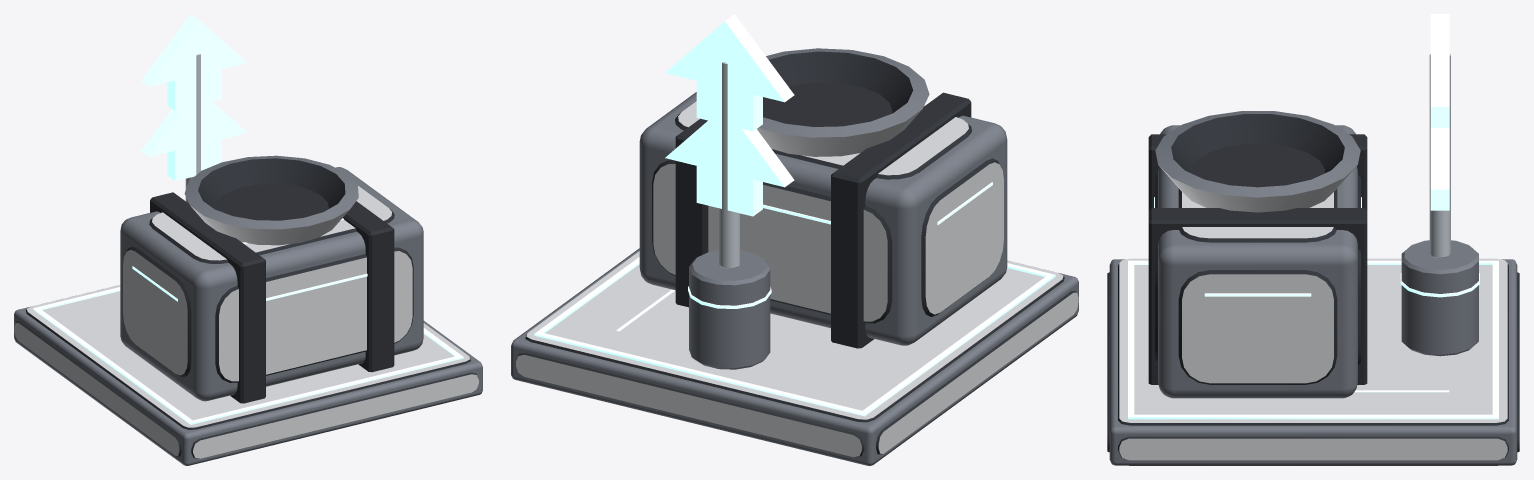
File: R4X_CargoUplink.fbx
The picture shows the model from 3 angles, left to right: view 1: azimuth 30°, elevation 25°; view 2: azimuth 150°, elevation 25°; view 3: azimuth 270°, elevation 25°; orthographic projection. The views are drawn at different scales.
Visible parts, largest first — view 1: R4X_CargoUplink_Body; view 2: R4X_CargoUplink_Body; view 3: R4X_CargoUplink_Body.
Part boxes in pixels (x1,y1,x2,y2): R4X_CargoUplink_Body: (14,14,482,465); R4X_CargoUplink_Body: (511,14,1078,465); R4X_CargoUplink_Body: (1107,14,1519,465).
Size of the model in its own units: 0.52 by 0.515 by 0.52.
